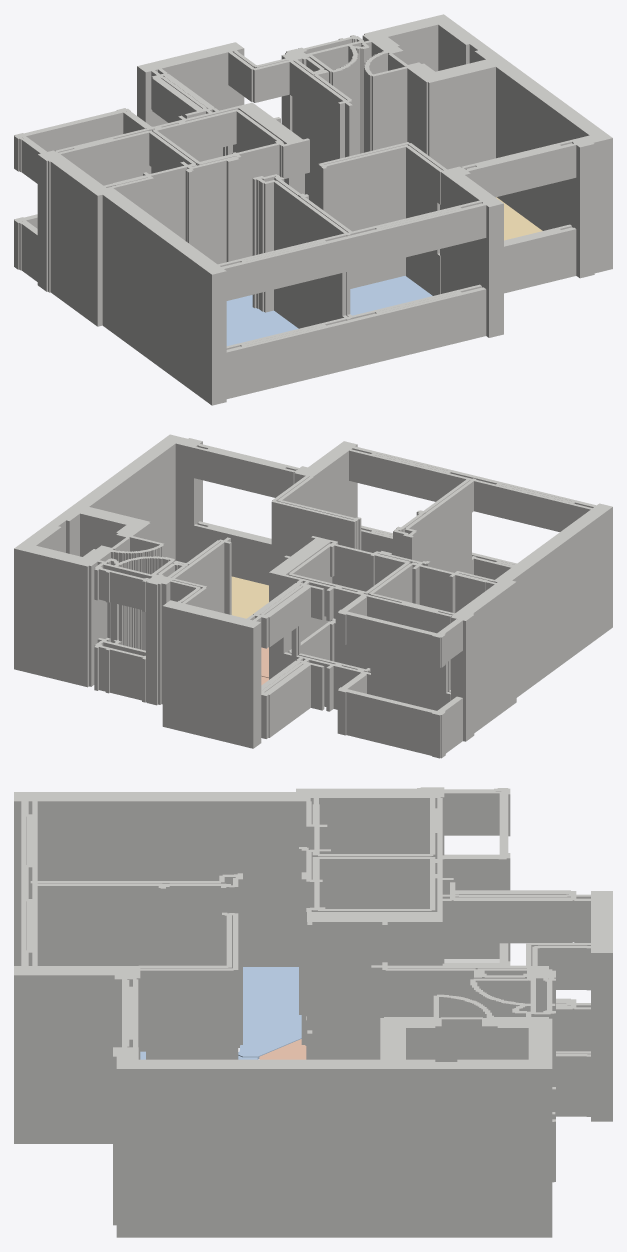
3 views of the same model, one above another, from view 1: azimuth 30°, elevation 25°; view 2: azimuth 150°, elevation 25°; view 3: azimuth 270°, elevation 25° (orthographic). The views are drawn at different scales.
Visible parts, largest first — view 1: walls, room:bedroom:3, room:bedroom:7, room:living:6; view 2: walls, room:living:6; view 3: walls, room:bedroom:3, room:kitchen:5.
Part boxes in pixels (x1,y1,x2,y2): walls: [14, 14, 612, 405]; room:bedroom:3: [226, 295, 298, 346]; room:bedroom:7: [350, 276, 432, 315]; room:living:6: [496, 197, 542, 240]; walls: [14, 434, 612, 758]; room:living:6: [231, 576, 268, 618]; walls: [14, 787, 612, 1237]; room:bedroom:3: [238, 967, 301, 1059]; room:kitchen:5: [259, 1039, 306, 1059].
Size of the model in its own units: 10.03 by 2.8 by 9.01.
